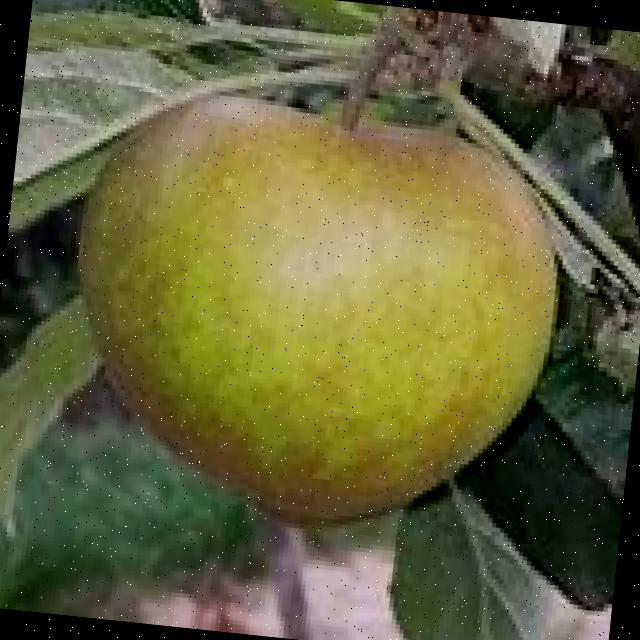apple: (49, 80, 578, 547)
